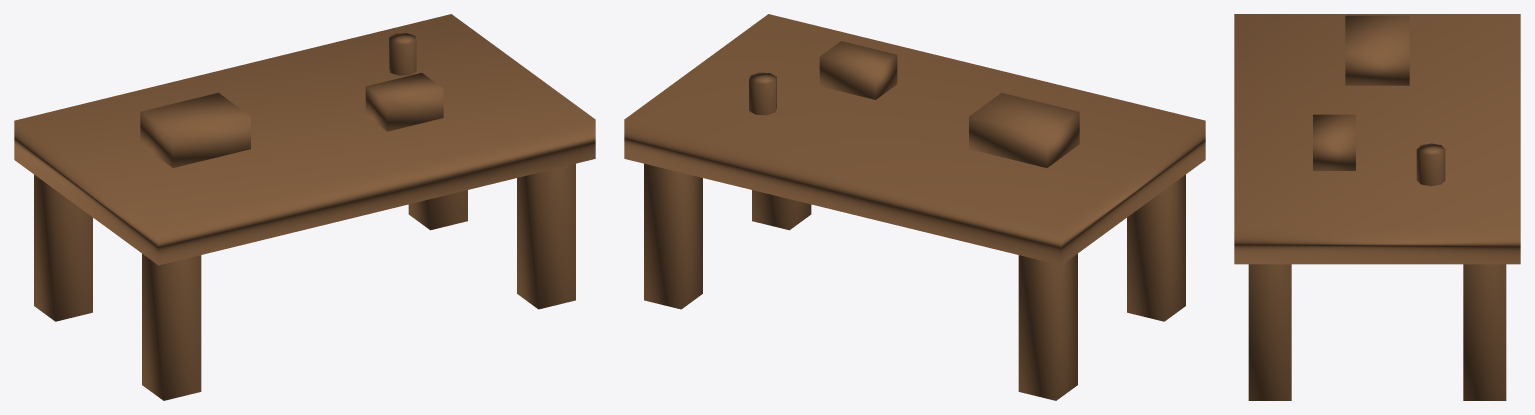
The model's file is workbench.obj.
The picture shows the model from 3 angles, left to right: view 1: azimuth 30°, elevation 25°; view 2: azimuth 150°, elevation 25°; view 3: azimuth 270°, elevation 25°; orthographic projection.
Bounding box in the file's own units: 2.8 × 1.32 × 1.6.
